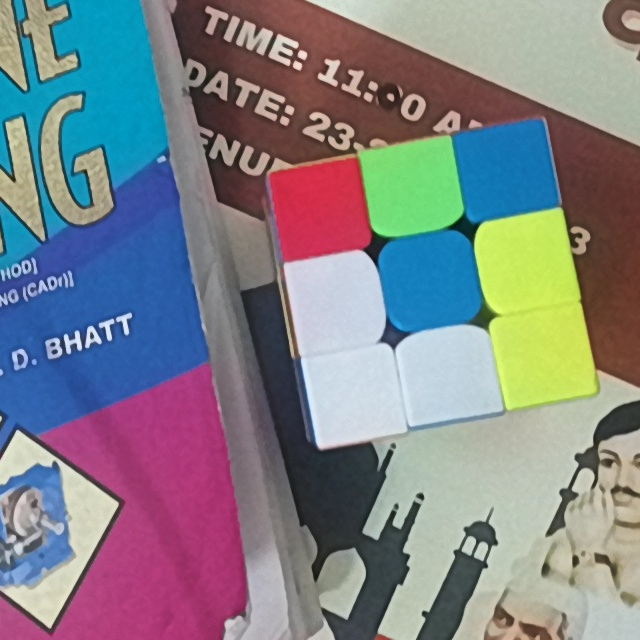tile: (297, 264, 374, 344), (280, 174, 359, 251), (314, 357, 394, 433), (391, 245, 469, 322), (411, 337, 489, 413), (468, 132, 544, 209), (372, 149, 451, 222), (490, 225, 566, 299), (507, 319, 583, 393)
